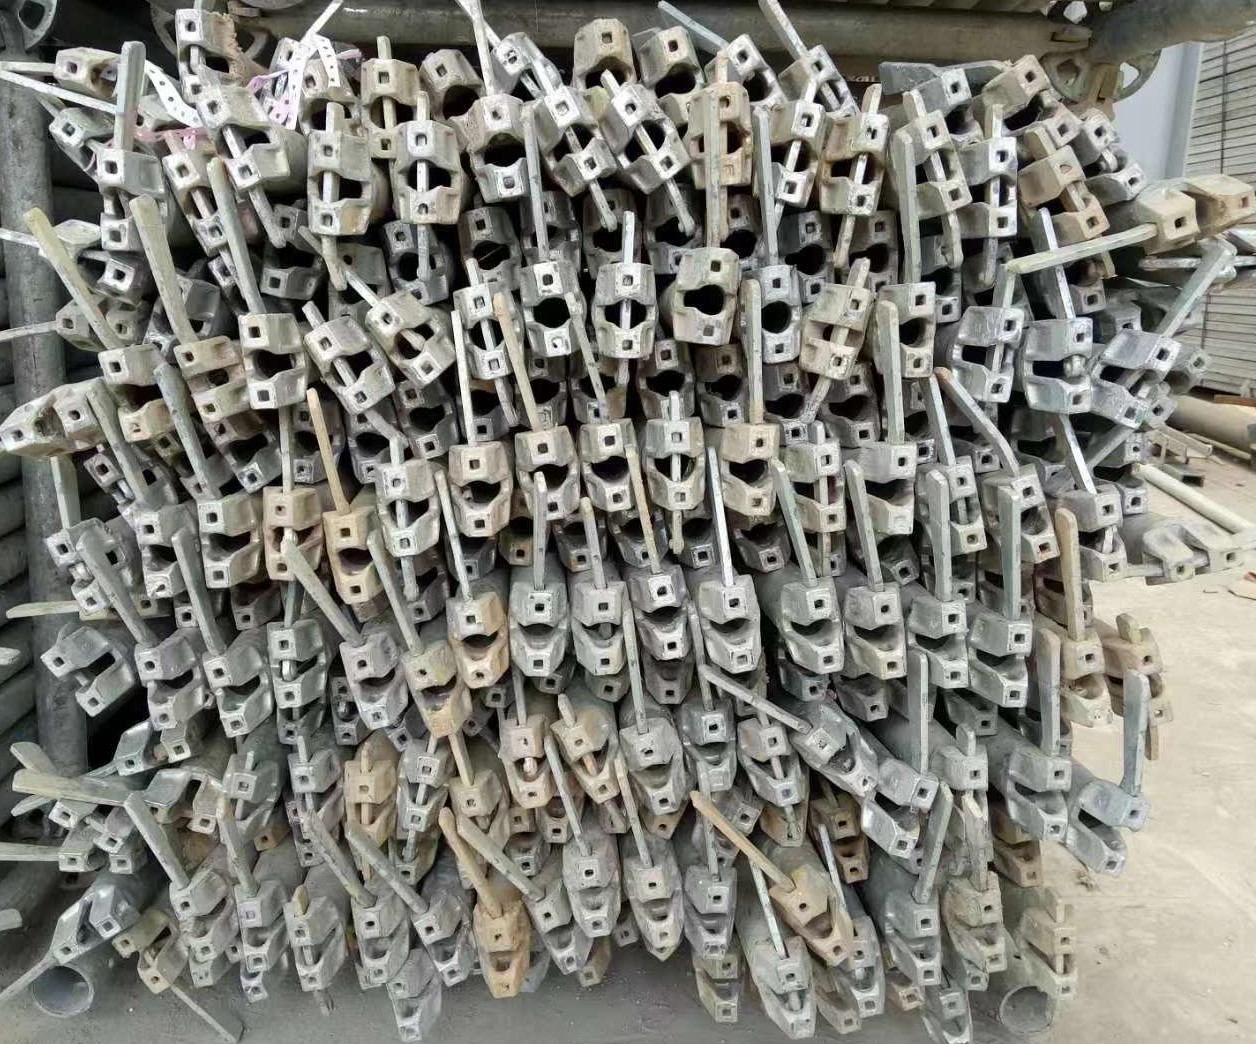NHsquare_steel: (381, 975, 434, 1044)
THsquare_steel: (236, 311, 307, 413), (460, 95, 528, 201), (1148, 174, 1252, 242), (675, 247, 739, 351), (96, 349, 163, 446), (1001, 55, 1074, 143), (997, 466, 1059, 567), (1076, 790, 1145, 877), (786, 877, 858, 962), (191, 497, 255, 591), (784, 585, 850, 675), (38, 639, 111, 720), (449, 447, 512, 539), (337, 638, 401, 730), (1144, 348, 1214, 432), (633, 26, 701, 111), (873, 774, 938, 861), (171, 340, 239, 423), (132, 648, 198, 732), (401, 649, 462, 738), (623, 725, 684, 815), (703, 583, 764, 674), (2, 390, 90, 453), (751, 264, 805, 364), (850, 588, 910, 679), (253, 202, 308, 301), (913, 594, 969, 689), (516, 432, 576, 521), (446, 599, 508, 685), (386, 221, 446, 309), (885, 280, 938, 378), (524, 262, 578, 358), (577, 424, 635, 512), (416, 902, 475, 989), (641, 570, 695, 663), (730, 424, 784, 516), (974, 624, 1032, 710), (627, 864, 684, 950), (808, 727, 876, 800), (1020, 748, 1073, 841), (203, 654, 262, 738), (459, 209, 520, 290), (512, 587, 566, 678), (682, 707, 741, 790), (49, 896, 118, 965), (325, 513, 377, 605), (727, 34, 789, 111), (1065, 633, 1115, 726), (952, 888, 1010, 968), (472, 917, 526, 1001), (531, 893, 584, 977), (582, 190, 641, 266), (131, 511, 180, 600), (872, 441, 918, 535), (896, 899, 945, 987), (645, 189, 694, 274), (639, 340, 691, 421), (689, 875, 738, 960), (172, 883, 224, 963), (422, 49, 485, 115), (397, 383, 449, 462), (155, 434, 216, 501), (208, 422, 265, 491), (700, 345, 750, 423), (764, 362, 812, 442), (572, 854, 619, 936), (830, 366, 878, 445), (236, 892, 282, 974), (783, 210, 834, 283), (935, 68, 984, 142), (352, 904, 395, 986), (823, 809, 870, 883), (283, 402, 322, 484), (521, 361, 567, 430), (344, 412, 388, 485), (861, 209, 901, 287), (927, 234, 963, 323), (700, 960, 745, 1029), (846, 941, 888, 1016), (456, 382, 505, 445), (1118, 433, 1151, 518), (502, 812, 545, 874), (741, 520, 791, 573), (614, 515, 665, 566), (726, 197, 763, 266), (933, 991, 979, 1044), (909, 382, 938, 462), (878, 536, 924, 586), (1115, 299, 1184, 333), (1069, 262, 1112, 315), (676, 513, 718, 567), (48, 851, 138, 876), (939, 553, 984, 601), (1003, 830, 1039, 889), (646, 662, 693, 707), (555, 523, 599, 570), (846, 677, 891, 723), (227, 584, 268, 632), (453, 541, 496, 582), (946, 695, 989, 735), (544, 799, 578, 848), (778, 671, 826, 704)
THsquare_steel_blocked: (602, 87, 686, 187), (1096, 335, 1184, 430), (537, 87, 612, 193), (197, 87, 270, 193), (764, 101, 831, 205), (391, 120, 457, 226), (156, 152, 226, 251), (901, 114, 971, 213), (590, 264, 659, 364), (826, 111, 888, 221), (691, 82, 756, 185), (305, 326, 380, 415), (1029, 151, 1103, 241), (1034, 316, 1098, 413), (368, 296, 443, 380), (966, 305, 1026, 405), (301, 133, 360, 236), (1085, 107, 1153, 194), (43, 527, 106, 618), (810, 286, 872, 378), (455, 287, 514, 383), (262, 486, 319, 583), (50, 42, 150, 96), (168, 8, 226, 101), (749, 722, 811, 808), (573, 582, 628, 677), (1119, 633, 1175, 726), (974, 136, 1024, 238), (649, 422, 707, 510), (360, 57, 411, 155), (377, 465, 432, 555), (1073, 488, 1127, 579), (84, 154, 134, 252), (789, 43, 855, 115), (768, 950, 820, 1042), (797, 443, 850, 530), (337, 761, 394, 839), (571, 18, 634, 87), (269, 624, 320, 709), (561, 724, 615, 803), (698, 796, 757, 868), (941, 462, 986, 557), (502, 724, 550, 811), (1155, 533, 1239, 582), (140, 788, 219, 840), (396, 751, 445, 833), (488, 30, 549, 96), (47, 800, 126, 850), (40, 114, 108, 171), (111, 933, 173, 996), (46, 305, 141, 345), (84, 454, 141, 518), (288, 914, 334, 992), (66, 247, 137, 297), (571, 359, 624, 424), (939, 747, 991, 814), (1033, 917, 1073, 999), (984, 566, 1044, 621), (393, 559, 445, 622), (112, 738, 197, 775), (287, 759, 335, 824), (218, 763, 260, 829), (323, 675, 359, 748), (388, 833, 434, 887), (285, 804, 315, 872), (810, 532, 853, 578)
circle_steel: (997, 986, 1056, 1038)
